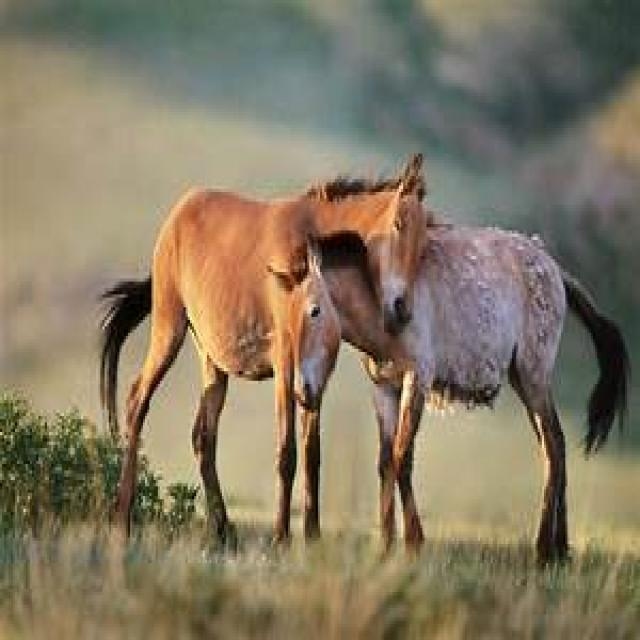horse: (102, 163, 435, 541), (294, 227, 567, 557)
